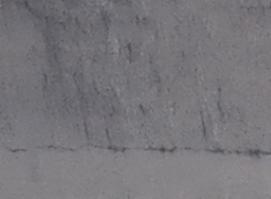fissura: (3, 88, 271, 161)
